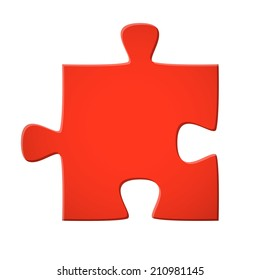puzzle piece: (15, 15, 235, 224)
